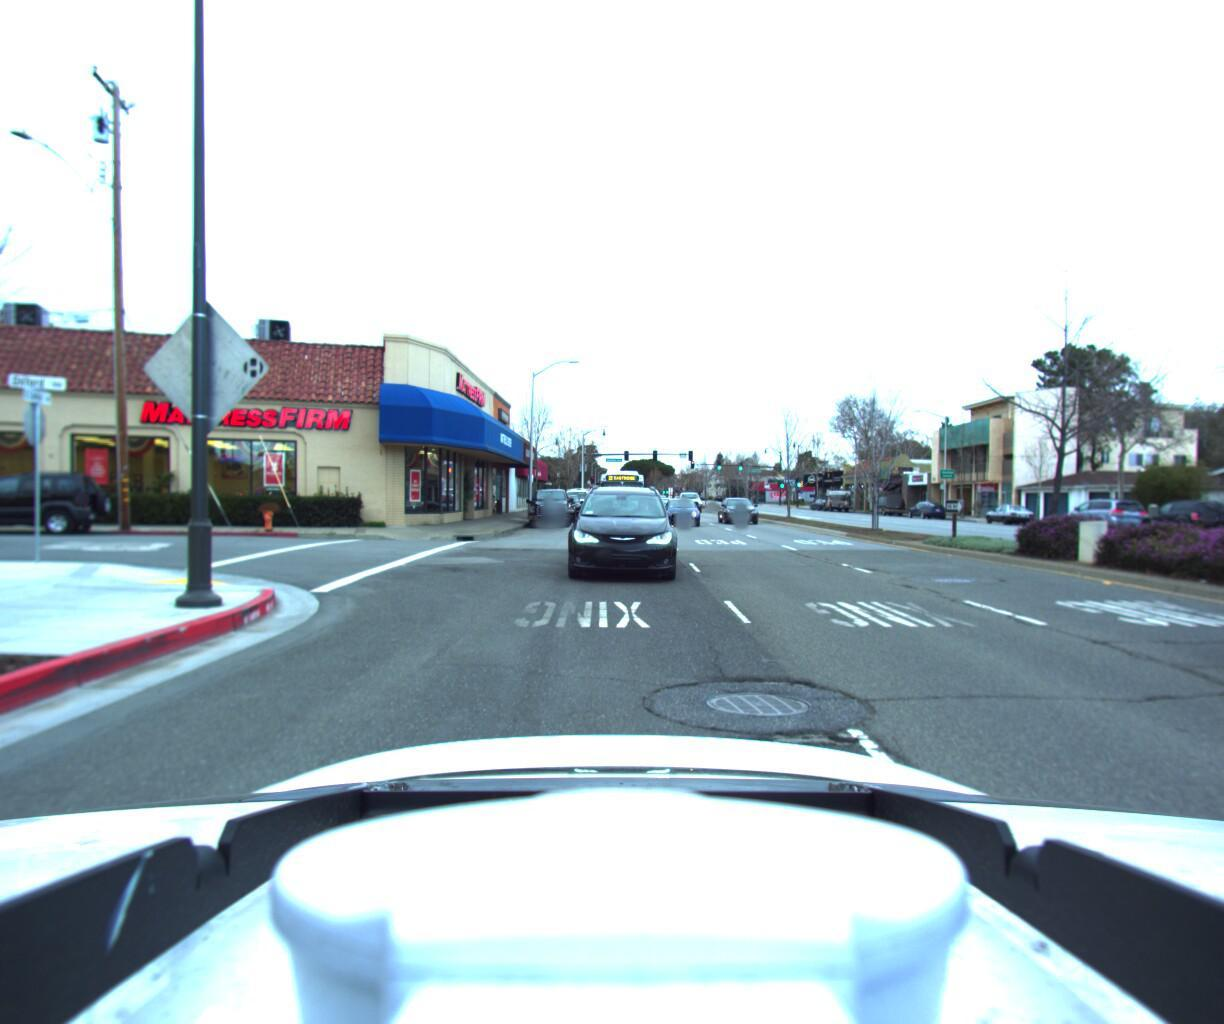bus: (595, 453, 647, 508)
car: (567, 478, 678, 585), (1130, 496, 1224, 538), (1056, 496, 1150, 533), (718, 489, 767, 524), (978, 501, 1038, 525), (663, 496, 705, 527), (559, 487, 590, 517), (902, 499, 947, 519), (678, 486, 708, 513), (867, 495, 906, 515), (555, 493, 582, 518), (600, 473, 624, 495)
truck: (525, 487, 570, 529)
